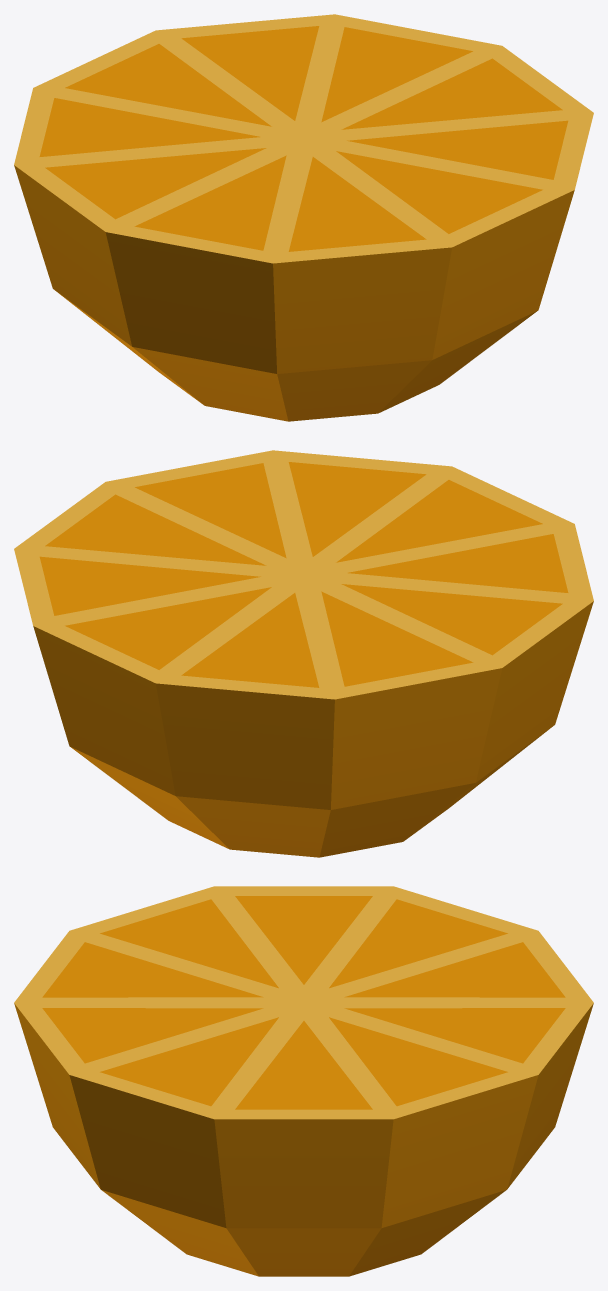
The model's file is orange_1b.glb.
3 views of the same model, one above another, from view 1: azimuth 30°, elevation 25°; view 2: azimuth 150°, elevation 25°; view 3: azimuth 270°, elevation 25° (orthographic). The views are drawn at different scales.
Parts seen in each view (by area): view 1: orange_1b; view 2: orange_1b; view 3: orange_1b.
Part boxes in pixels (left/top/right/bottom): orange_1b: left=14, top=14, right=593, bottom=421; orange_1b: left=14, top=450, right=593, bottom=857; orange_1b: left=14, top=886, right=593, bottom=1276.
Bounding box in the file's own units: 0.0916 × 0.0395 × 0.0963.
Materials: 1 (1 with a texture image).
